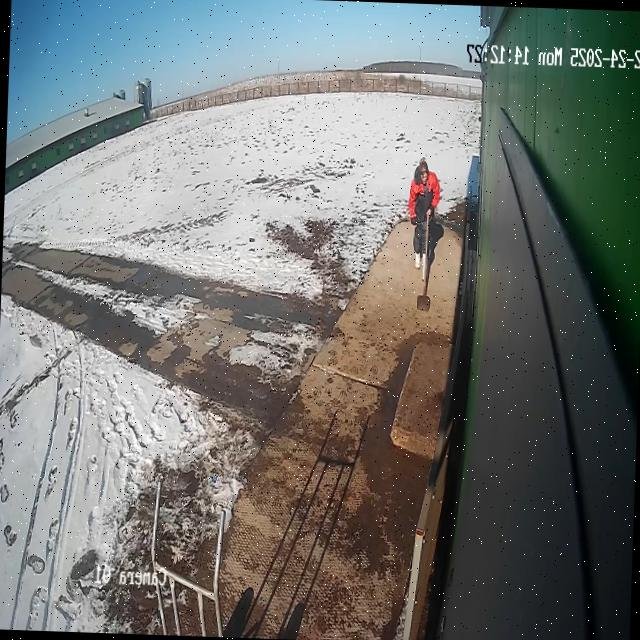Red uniform: (408, 157, 440, 274)
